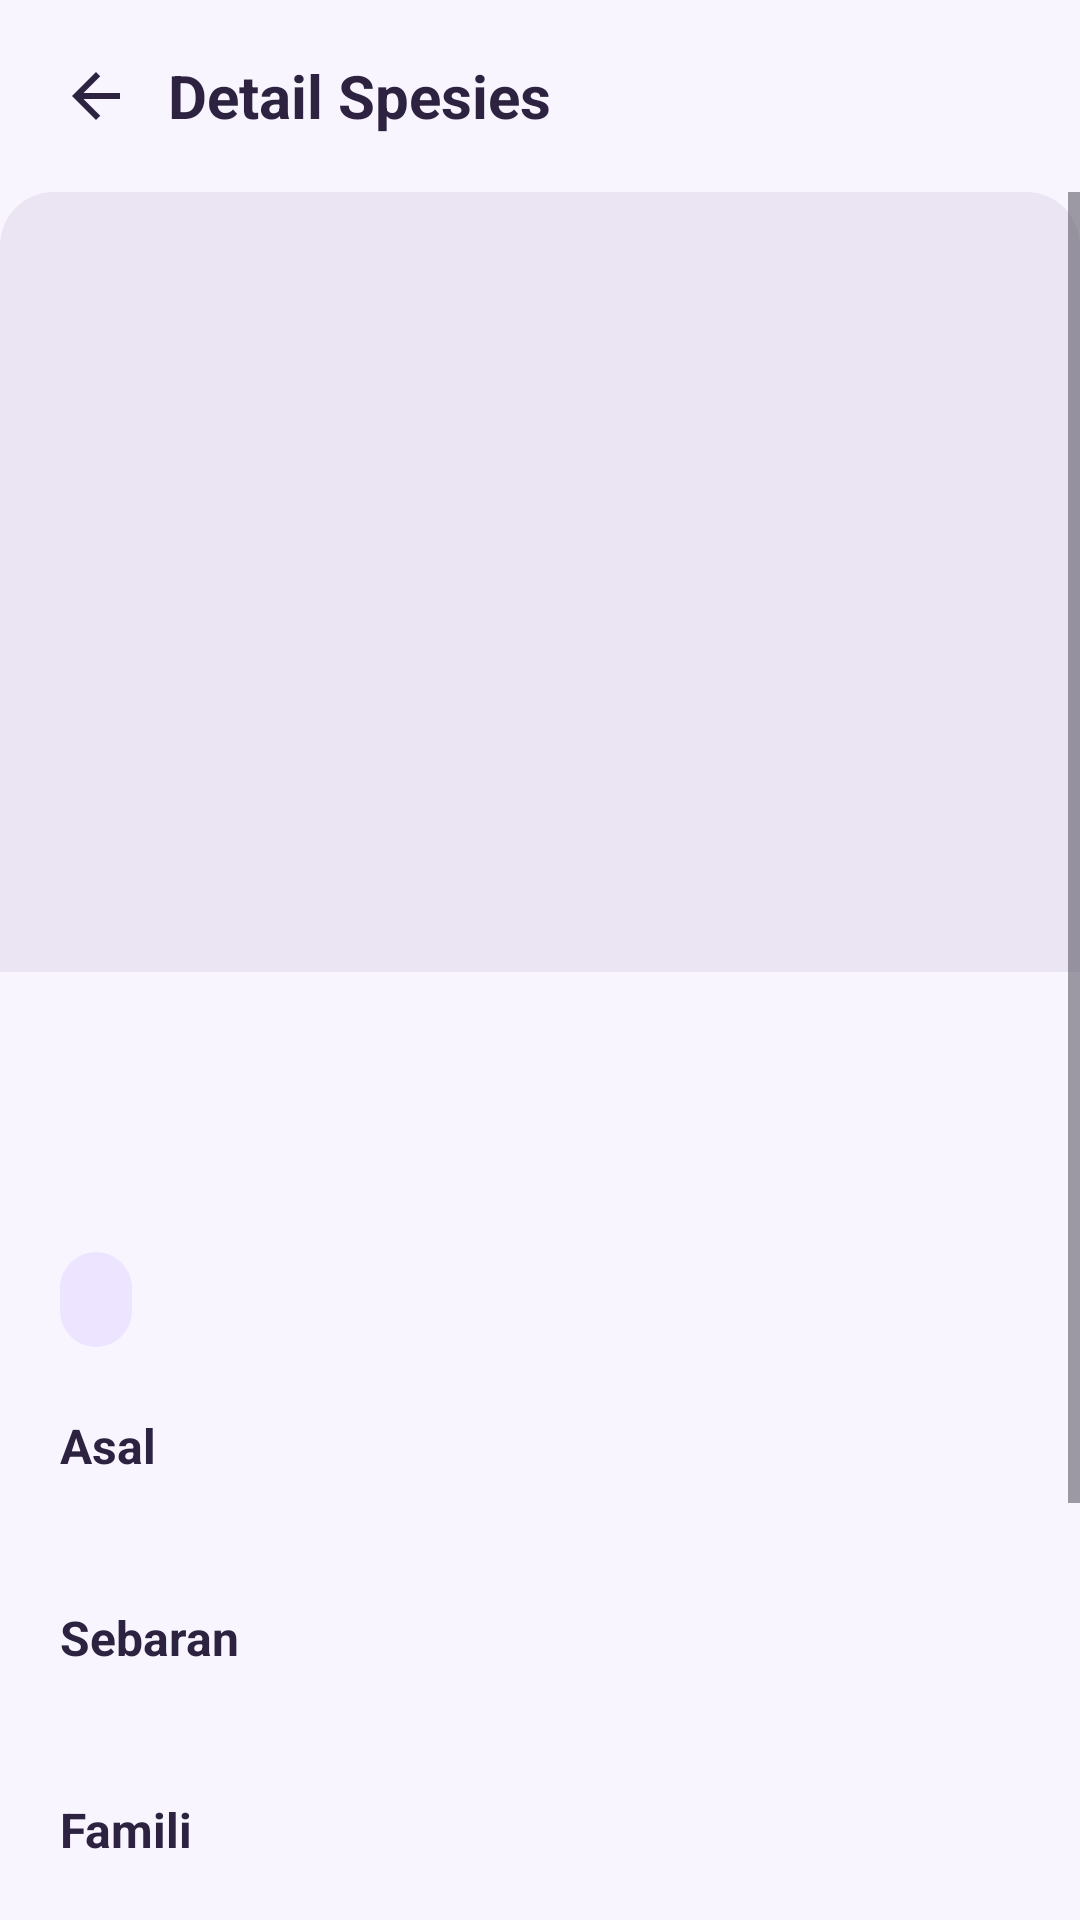

Icons on this 1080 × 1920 Android screen, each with its box as (x1, y1, x2, y2):
Kembali: (72, 72, 120, 120)
